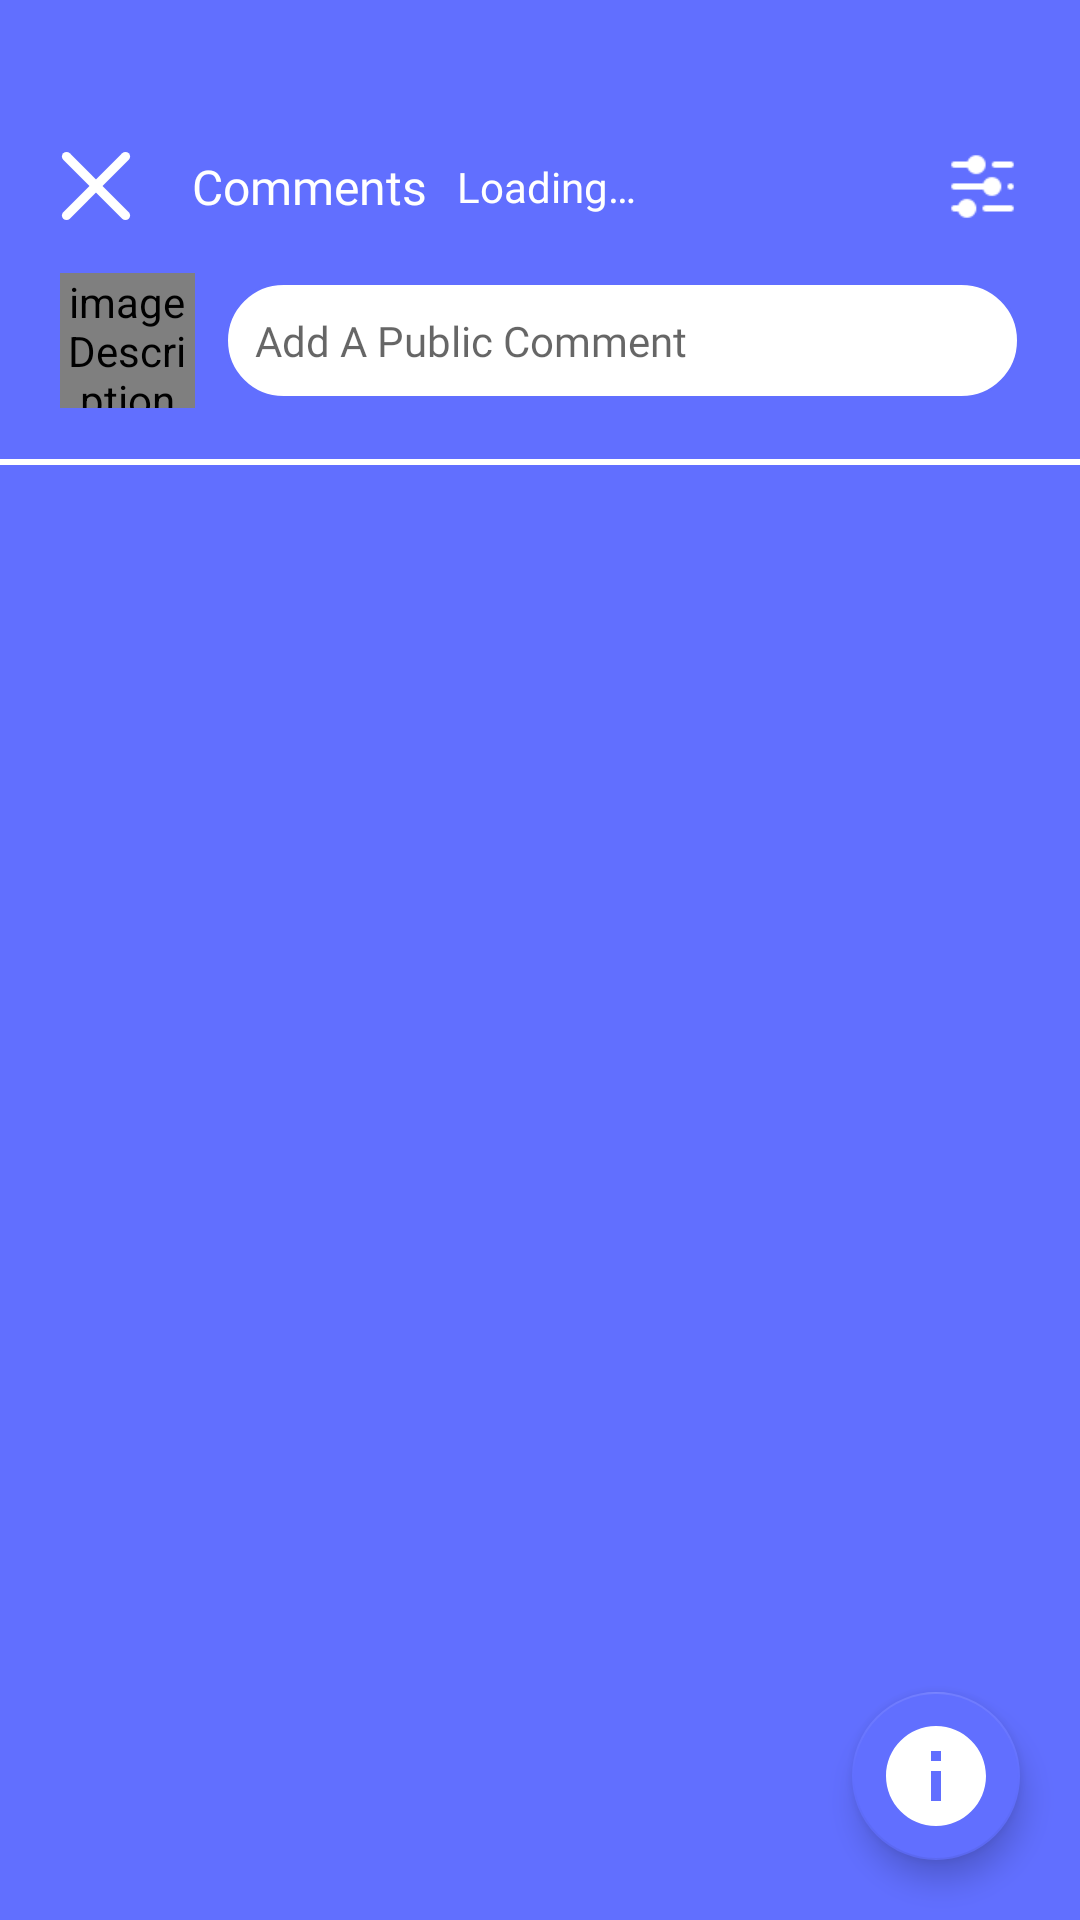

Where icons sit on this 1080×1920 app screen, as (x1, y1, x2, y2):
close: (62, 152, 130, 220)
filter iv: (951, 155, 1014, 218)
info: (856, 1692, 986, 1826)
